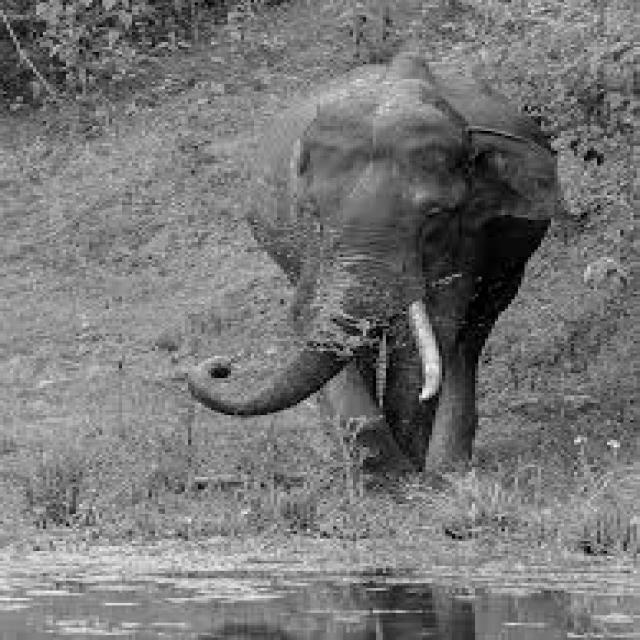Elephant: (185, 49, 587, 492)
